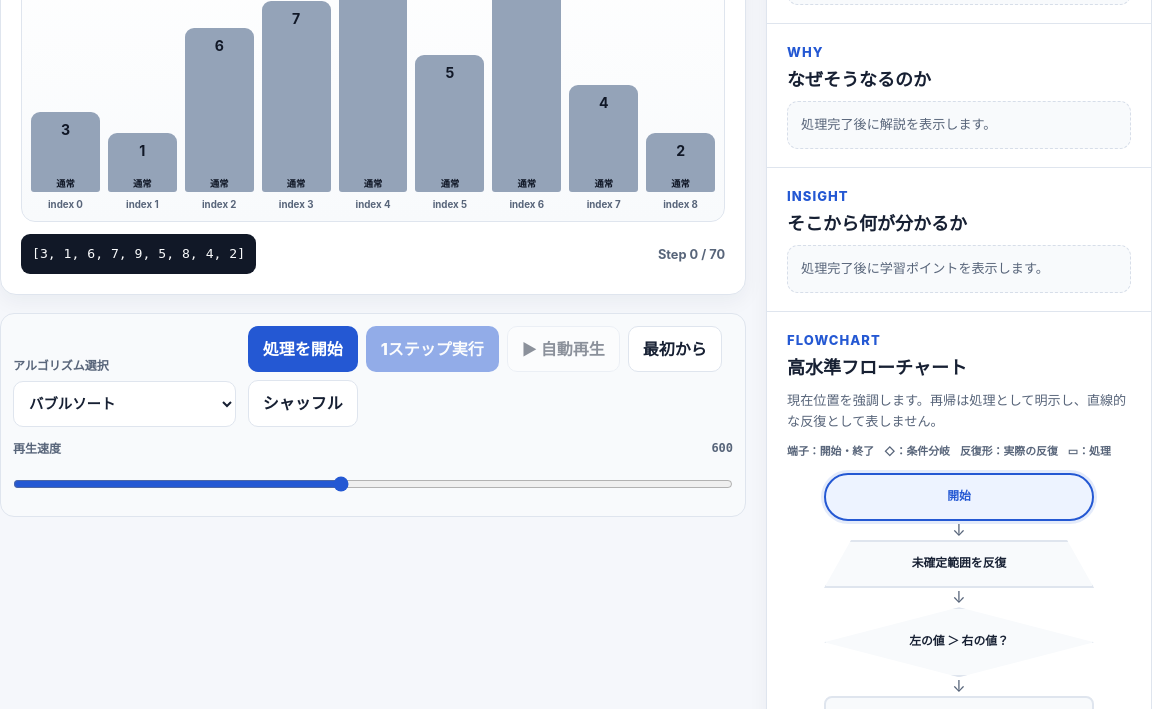
it: SortMaterial › keeps the base array while switching algorithms and restarting at Step 0
(page scrolled)
Click the button "処理を開始".
click(303, 349)  # box [248,326,358,372]
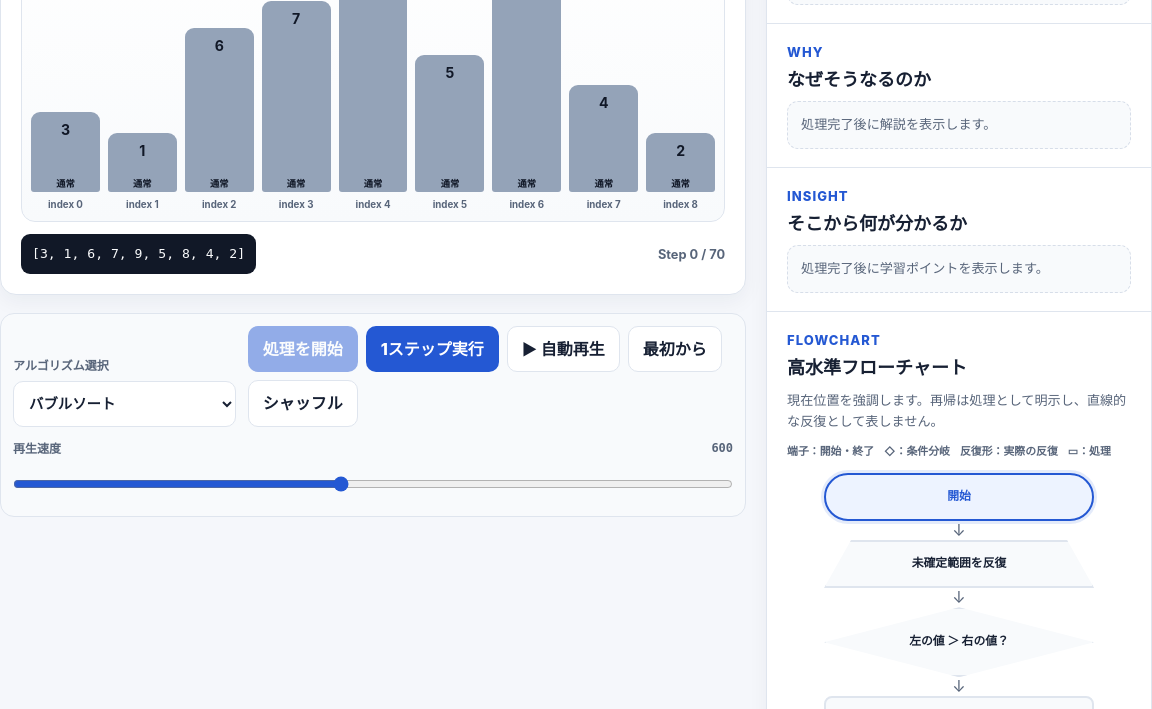
Click the button "1ステップ実行".
click(432, 349)  # box [366,326,499,372]
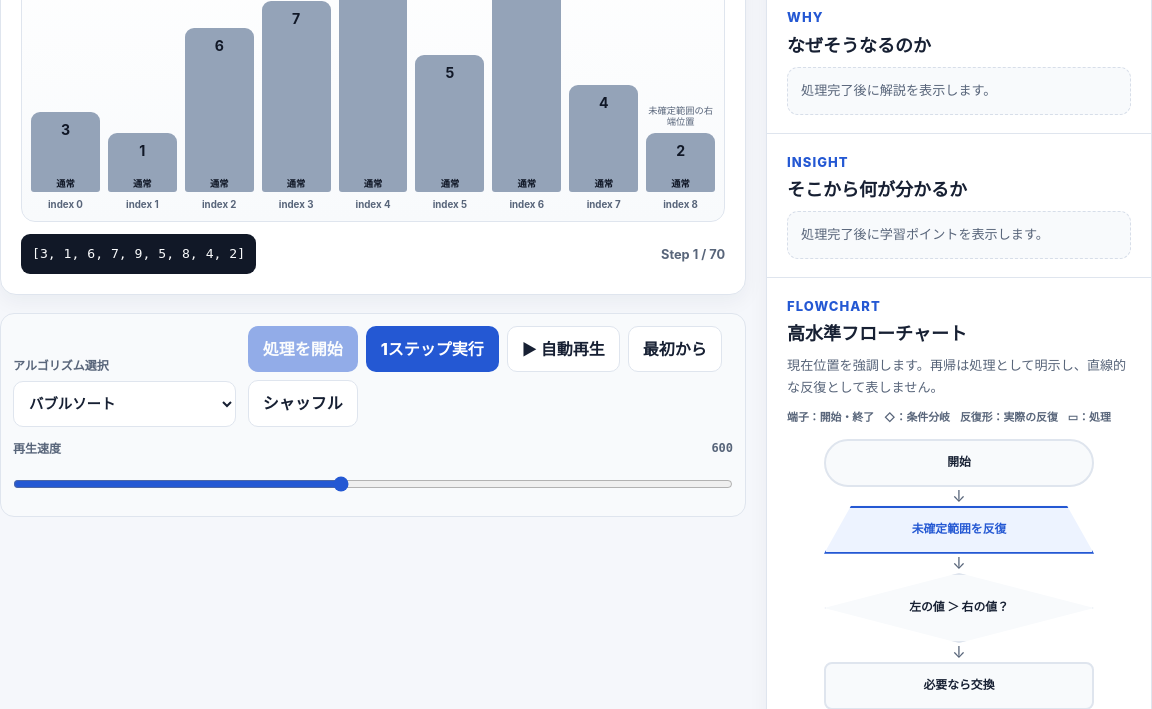
Select "ヒープソート" in the dropdown with test id "algorithm-select" at (124, 404), box [13,381,236,427]
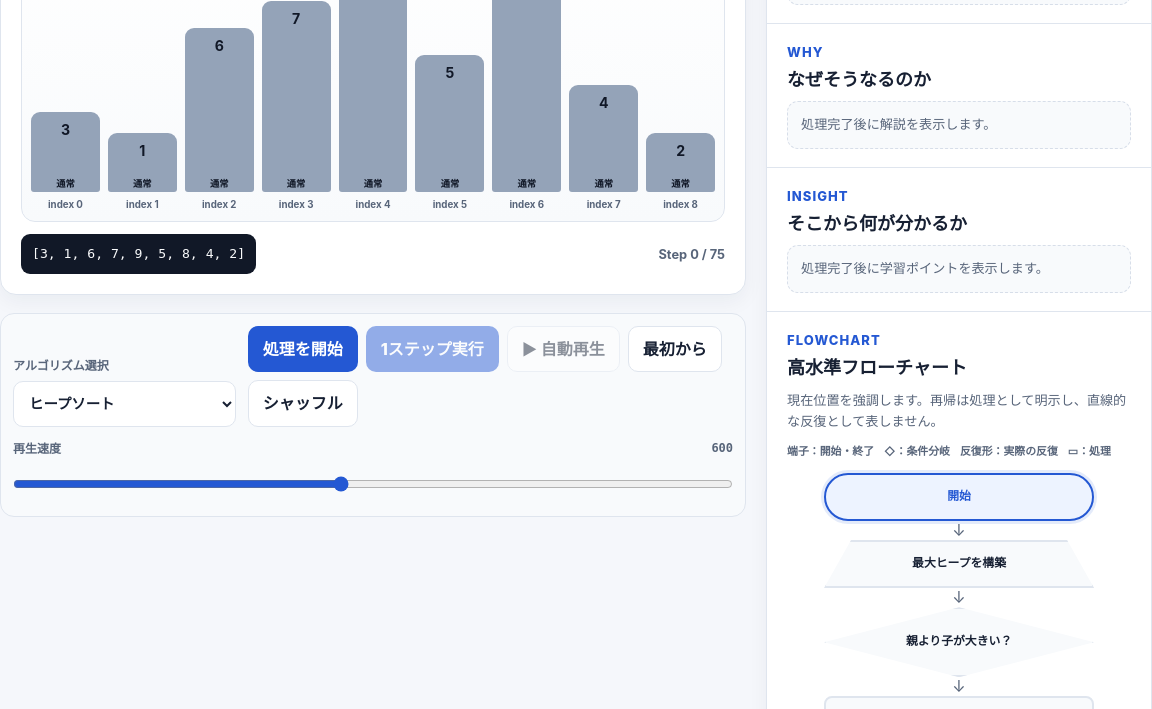
Now the text with test id "step-progress" shows "Step 0 /", box [658,247,725,262]
Click the button "処理を開始".
click(303, 349)  # box [248,326,358,372]
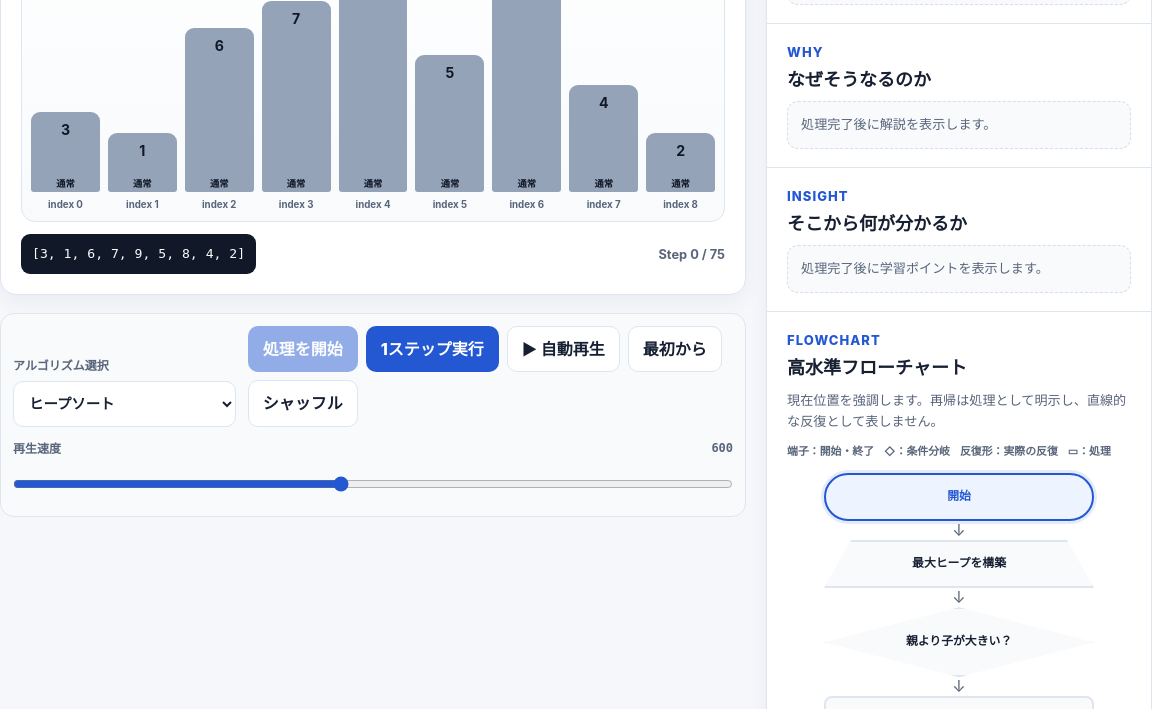
Click the button "1ステップ実行".
click(432, 349)  # box [366,326,499,372]
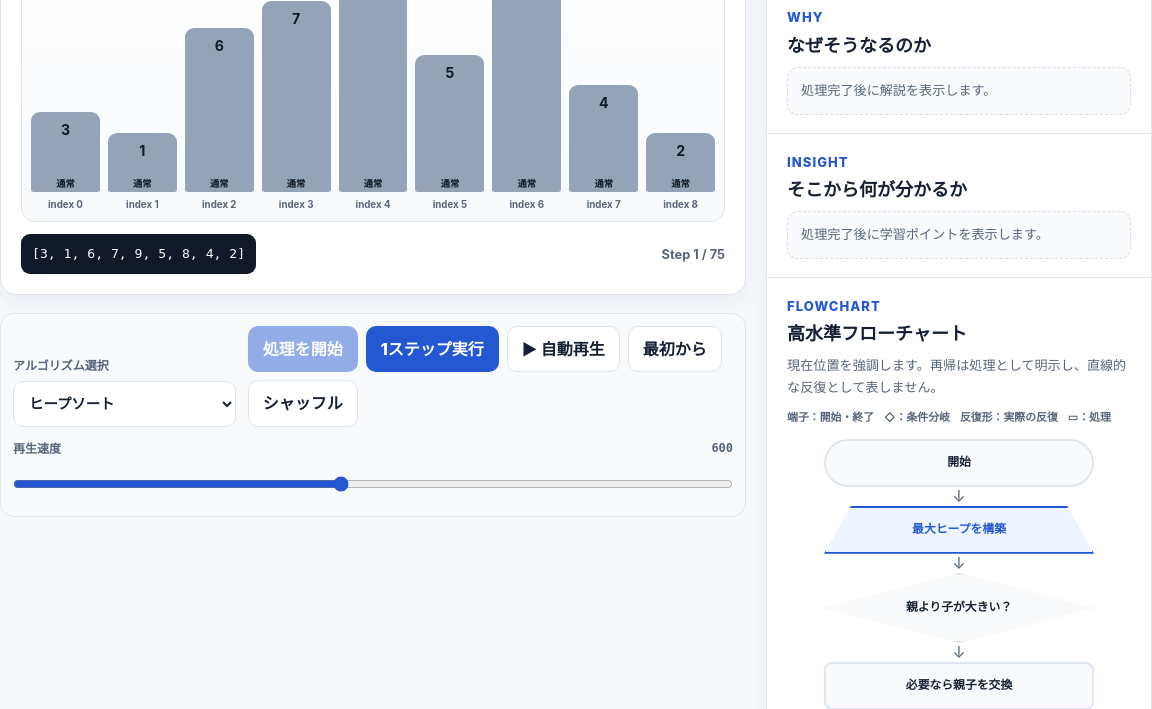
Click the button "最初から".
click(675, 349)  # box [628,326,722,372]
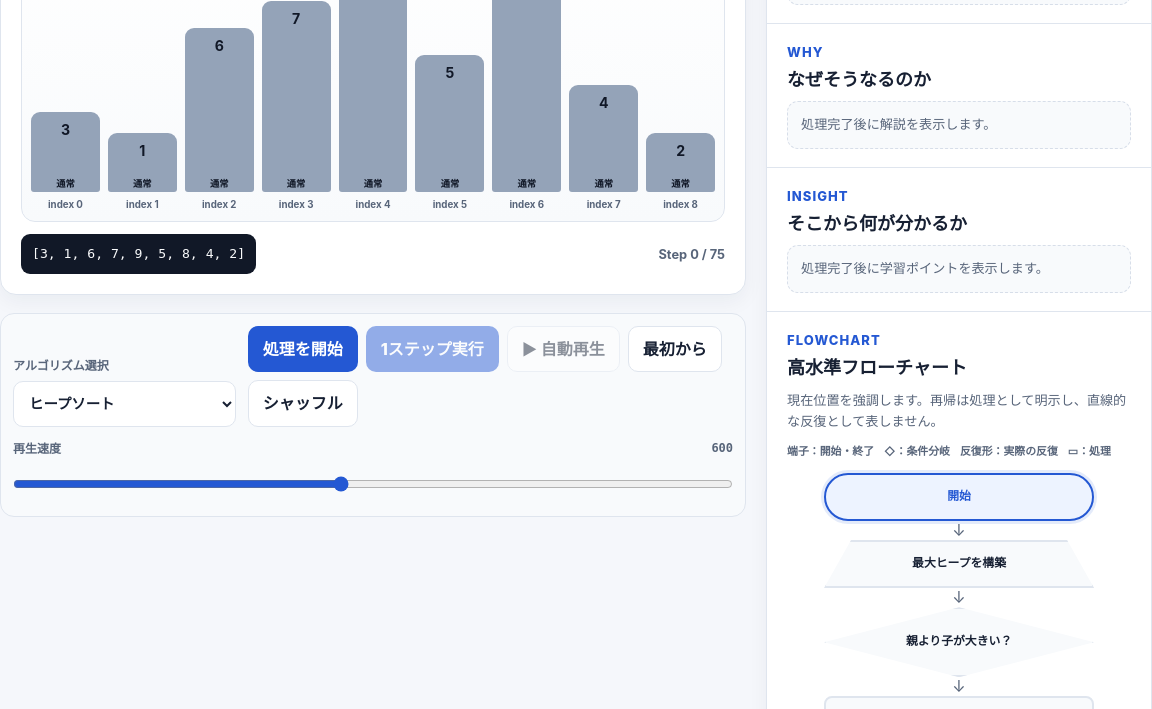
Now the text with test id "step-progress" shows "Step 0 /", box [658,247,725,262]
